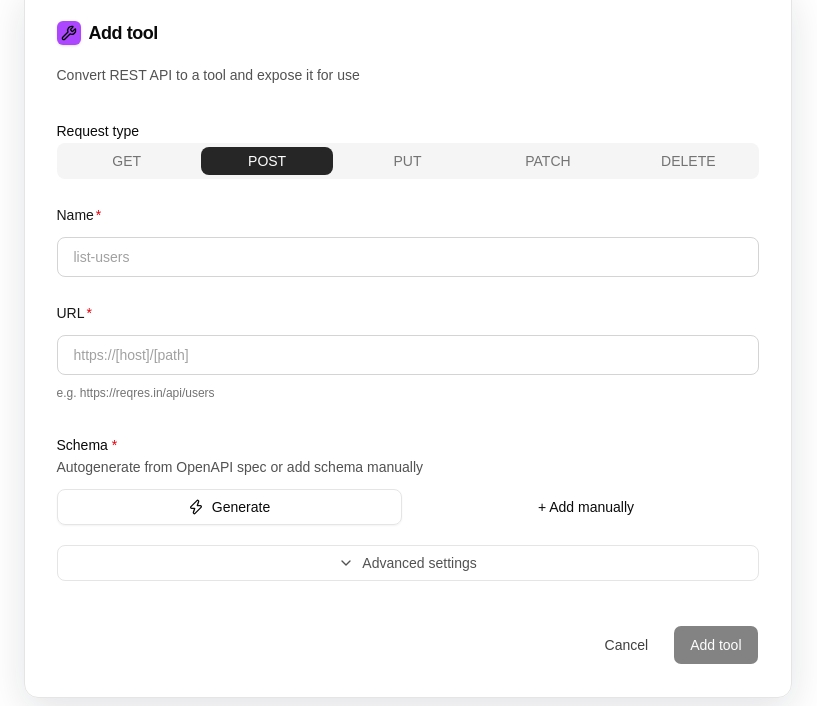
Test: ToolForm › Accessibility – labels and controls › Advanced settings panel has the id referenced by aria-controls
Click the button "Advanced settings" at (408, 563), box [56,545,758,581]
(page scrolled)
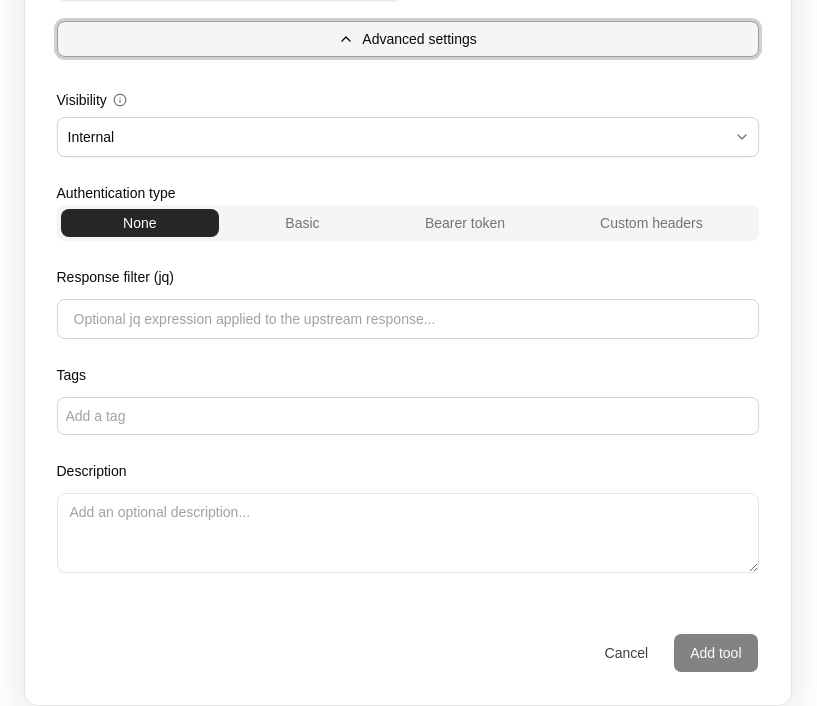
Expected: the element with id "advanced-settings-panel" is shown
